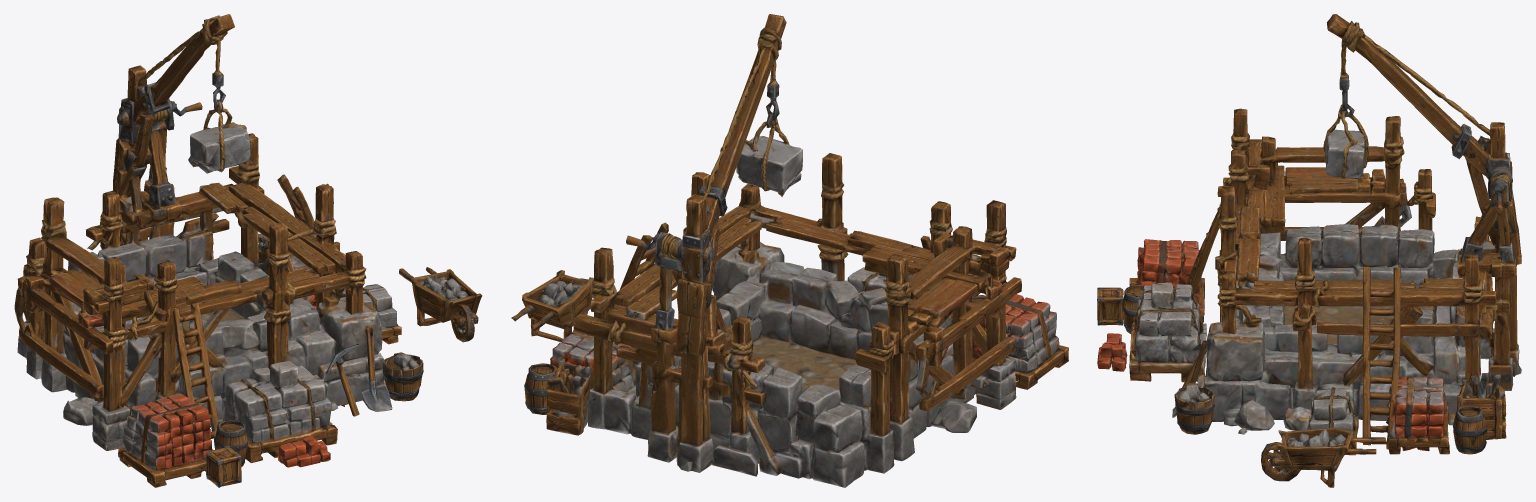
Rendered from chantier.glb.
3 renders of one model, left to right at view 1: azimuth 30°, elevation 25°; view 2: azimuth 150°, elevation 25°; view 3: azimuth 270°, elevation 25°, orthographic. The views are drawn at different scales.
Bounding box in the file's own units: 1.9 × 1.6 × 1.7.
Materials: 1 (1 with a texture image).
